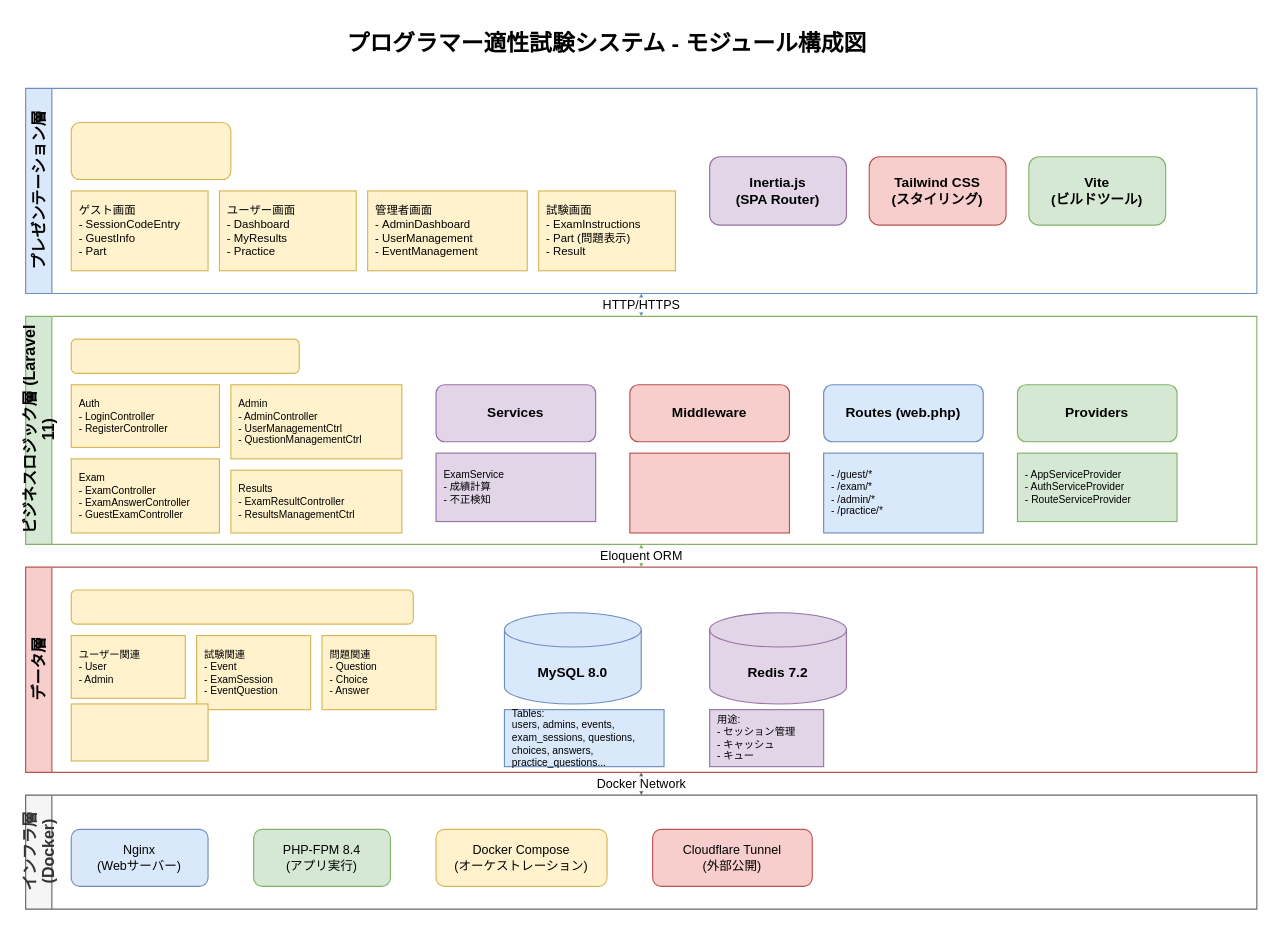
This 1277x929 diagram has some shape labels left out. The shapes that lost their labels are listed below. From the top down, each one's centre as x and y in pixels, then its label:
[150,150]: Vue.js Components
[184,355]: Controllers
[709,492]: - CSRF検証 - 認証 (Auth) - セッション管理 - 権限チェック
[241,606]: Models (Eloquent ORM)
[139,732]: 練習関連 - PracticeQuestion - PracticeChoice
